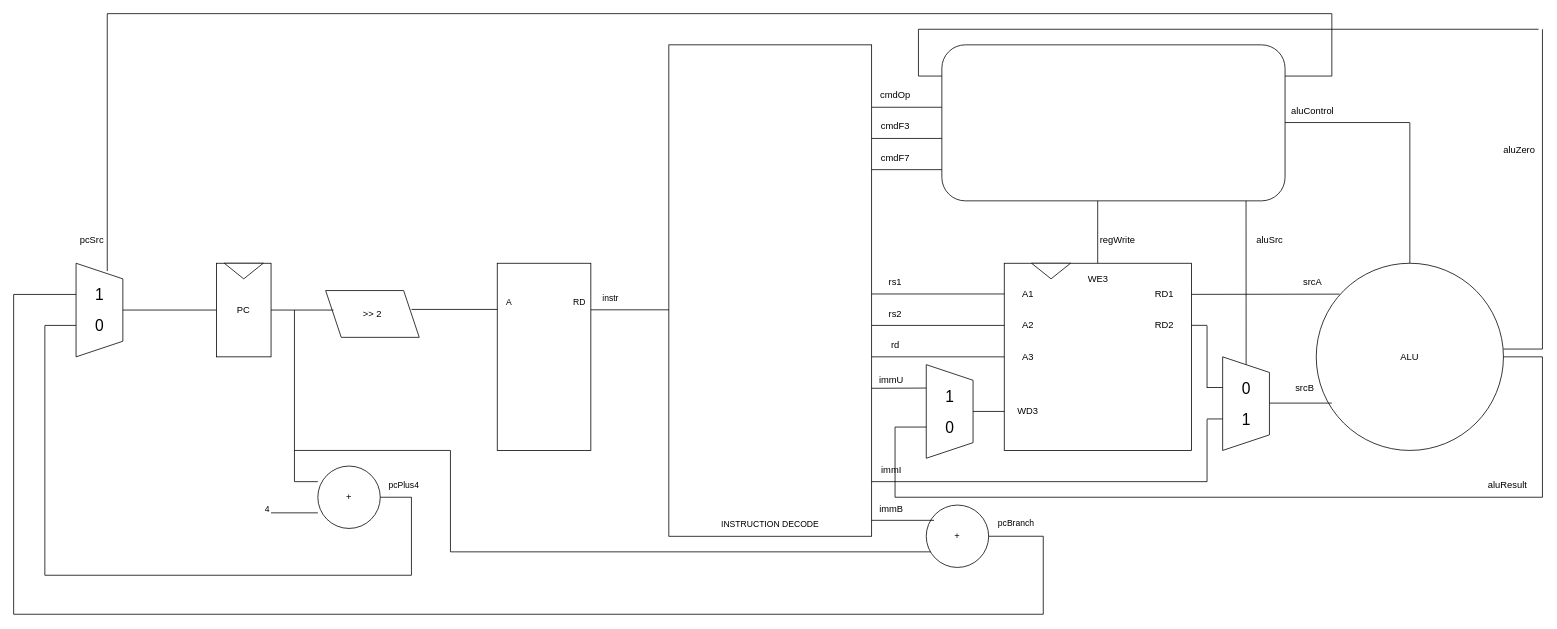
Some shapes in this 1557 by 629 pixel diagram are drawn without their labels. Here are the shapes that lost their labels. From the top down, the box of each, then its label:
(941, 44, 1285, 201): CONTROL UNIT
(496, 262, 591, 450): INSTRUCTION MEMORY
(1003, 262, 1191, 450): REGISTER FILE
